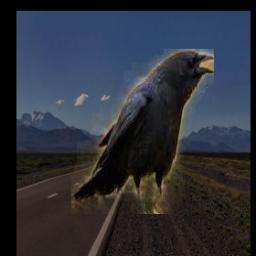Crow: (71, 50, 214, 215)
